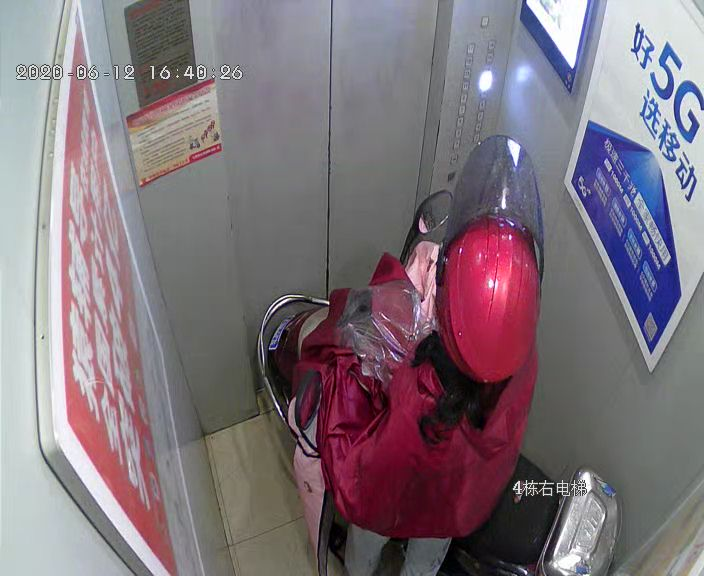Electric-bicycle: (258, 193, 616, 571)
